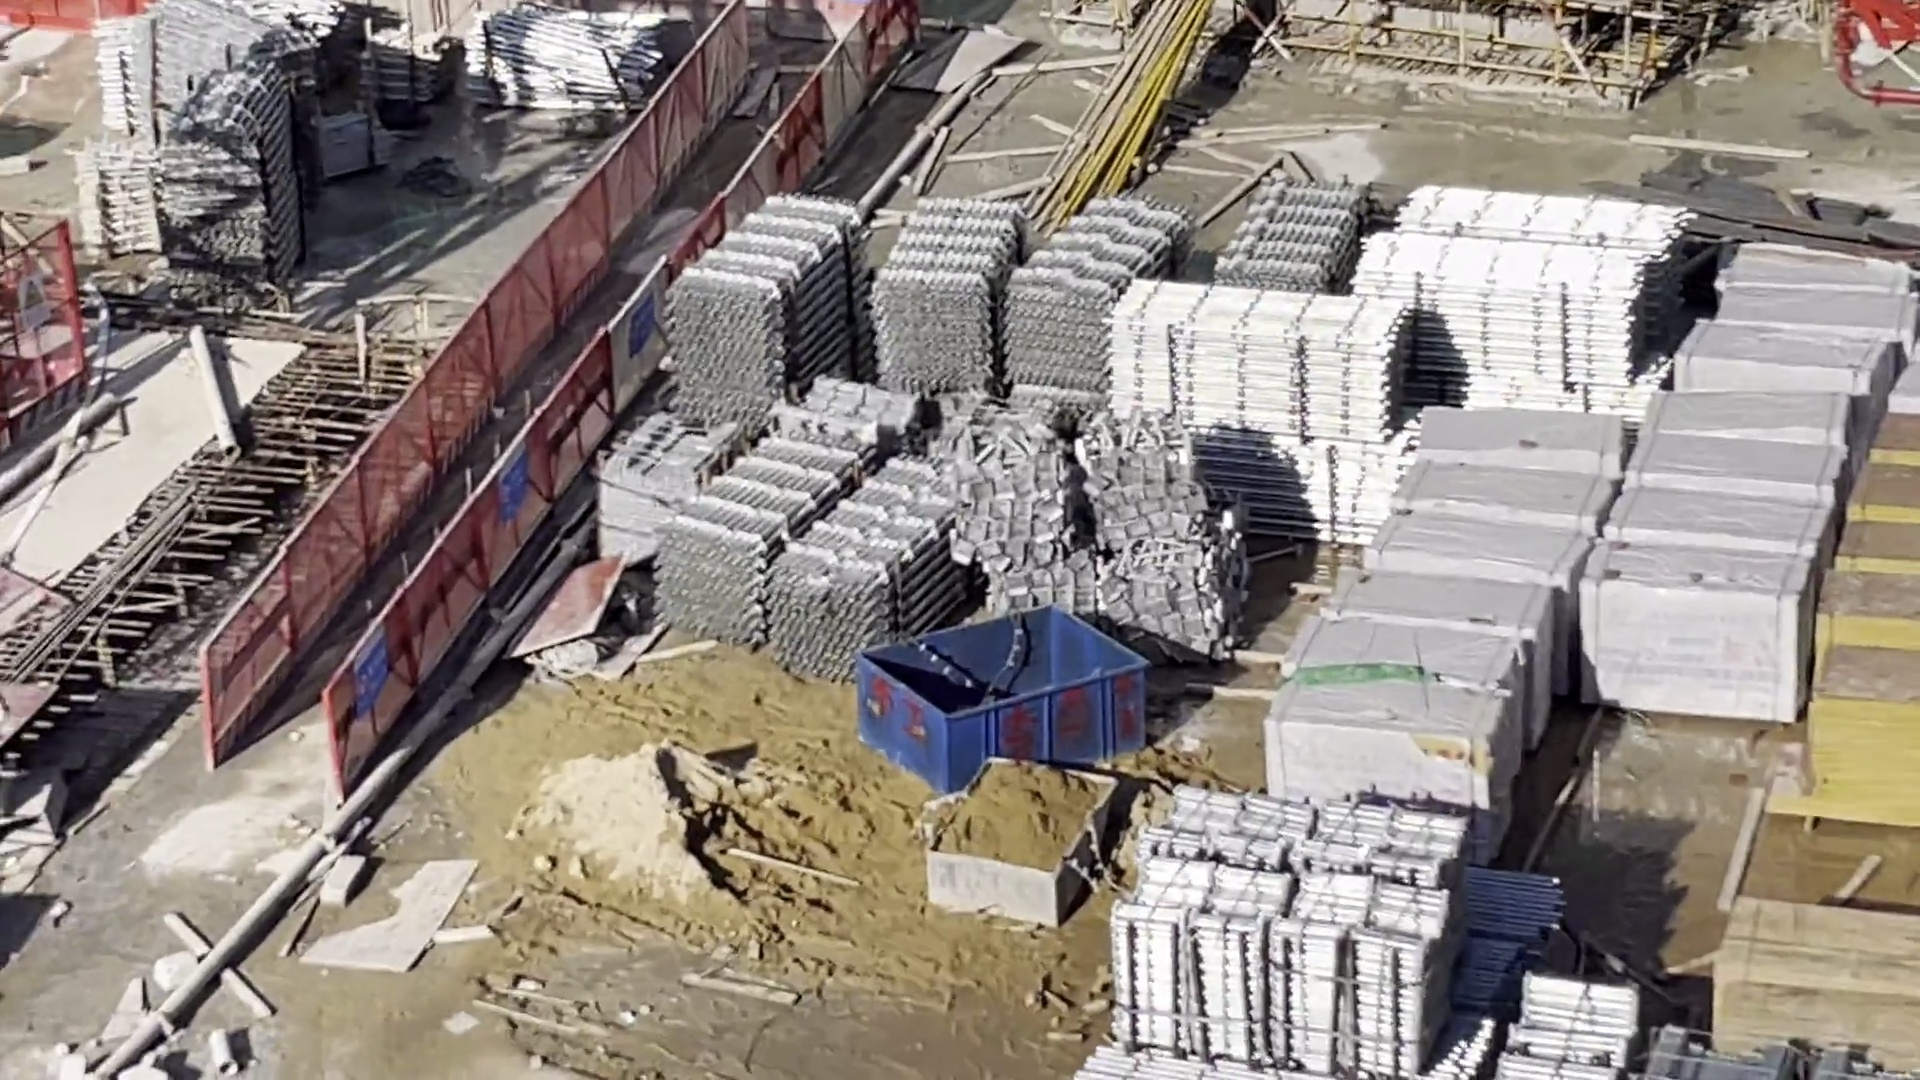board: (1815, 415, 1920, 825), (1712, 906, 1920, 1058)
fence: (208, 1, 893, 765)
hopper: (858, 608, 1147, 789), (924, 758, 1120, 930)
scaffold: (1108, 800, 1455, 1068), (1109, 287, 1393, 533), (665, 448, 963, 658), (1364, 189, 1681, 384), (882, 199, 1182, 380), (675, 200, 866, 411), (161, 76, 284, 284), (88, 11, 305, 109), (465, 16, 658, 108), (1495, 977, 1636, 1080), (1212, 189, 1352, 291), (78, 146, 150, 255), (363, 30, 444, 95)
slogan: (352, 624, 386, 717), (498, 447, 535, 517), (18, 280, 51, 331)
